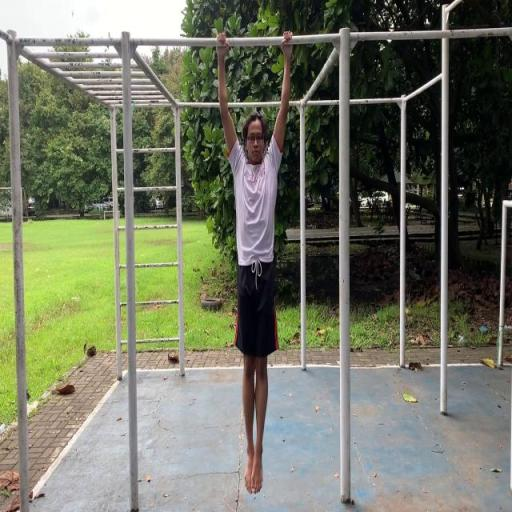Normal_BrenchPress: (214, 30, 294, 494)
